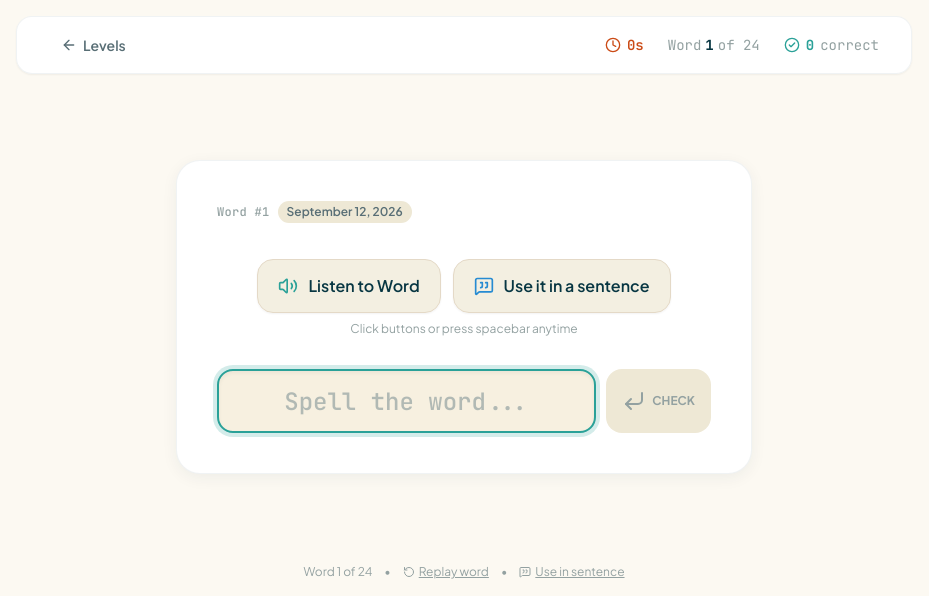
Test: SpellingPracticeView Component › speaks example sentence and displays masked sentence preview when "Use it in a sentence" button is clicked
Click the button "Use it in a sentence" at (562, 286), box [453, 259, 670, 313]
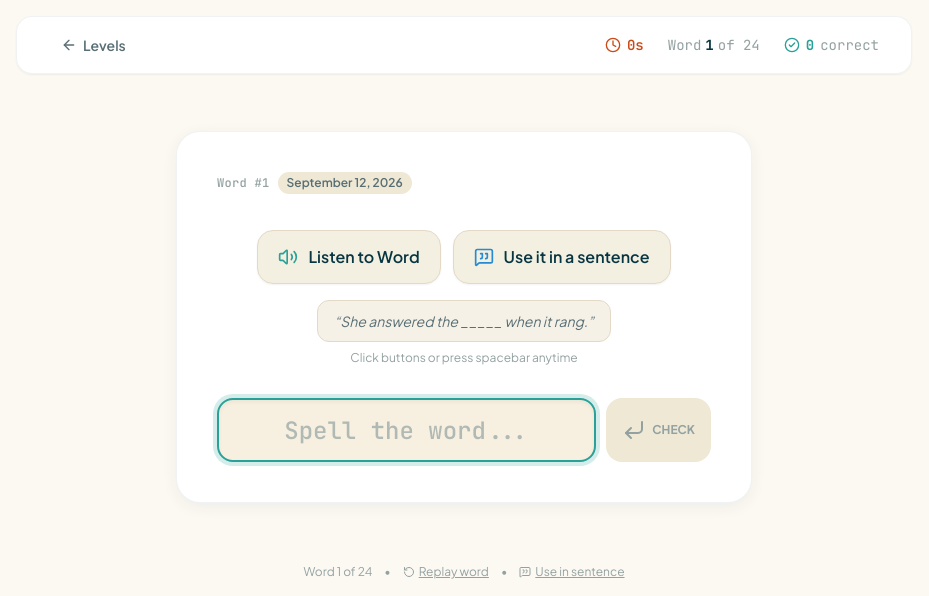
Expected: the text "“She answered the _____ when it rang.”" is shown, [317, 300, 611, 342]
Expected: the text with test id "sentence-preview" shows "_____", [340, 312, 588, 330]
